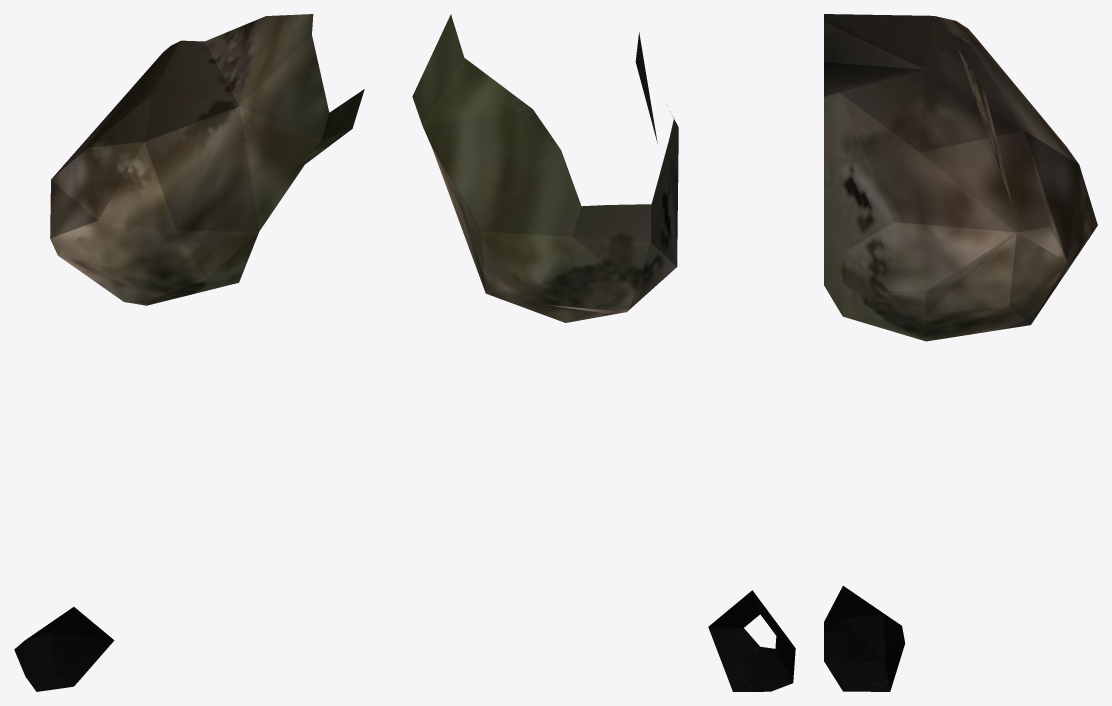
3 views of the same model, side by side, from view 1: azimuth 30°, elevation 25°; view 2: azimuth 150°, elevation 25°; view 3: azimuth 270°, elevation 25° (orthographic). The views are drawn at different scales.
Bounding box in the file's own units: 0.9335 × 1.55 × 0.5104.
1 material, 1 textured.
